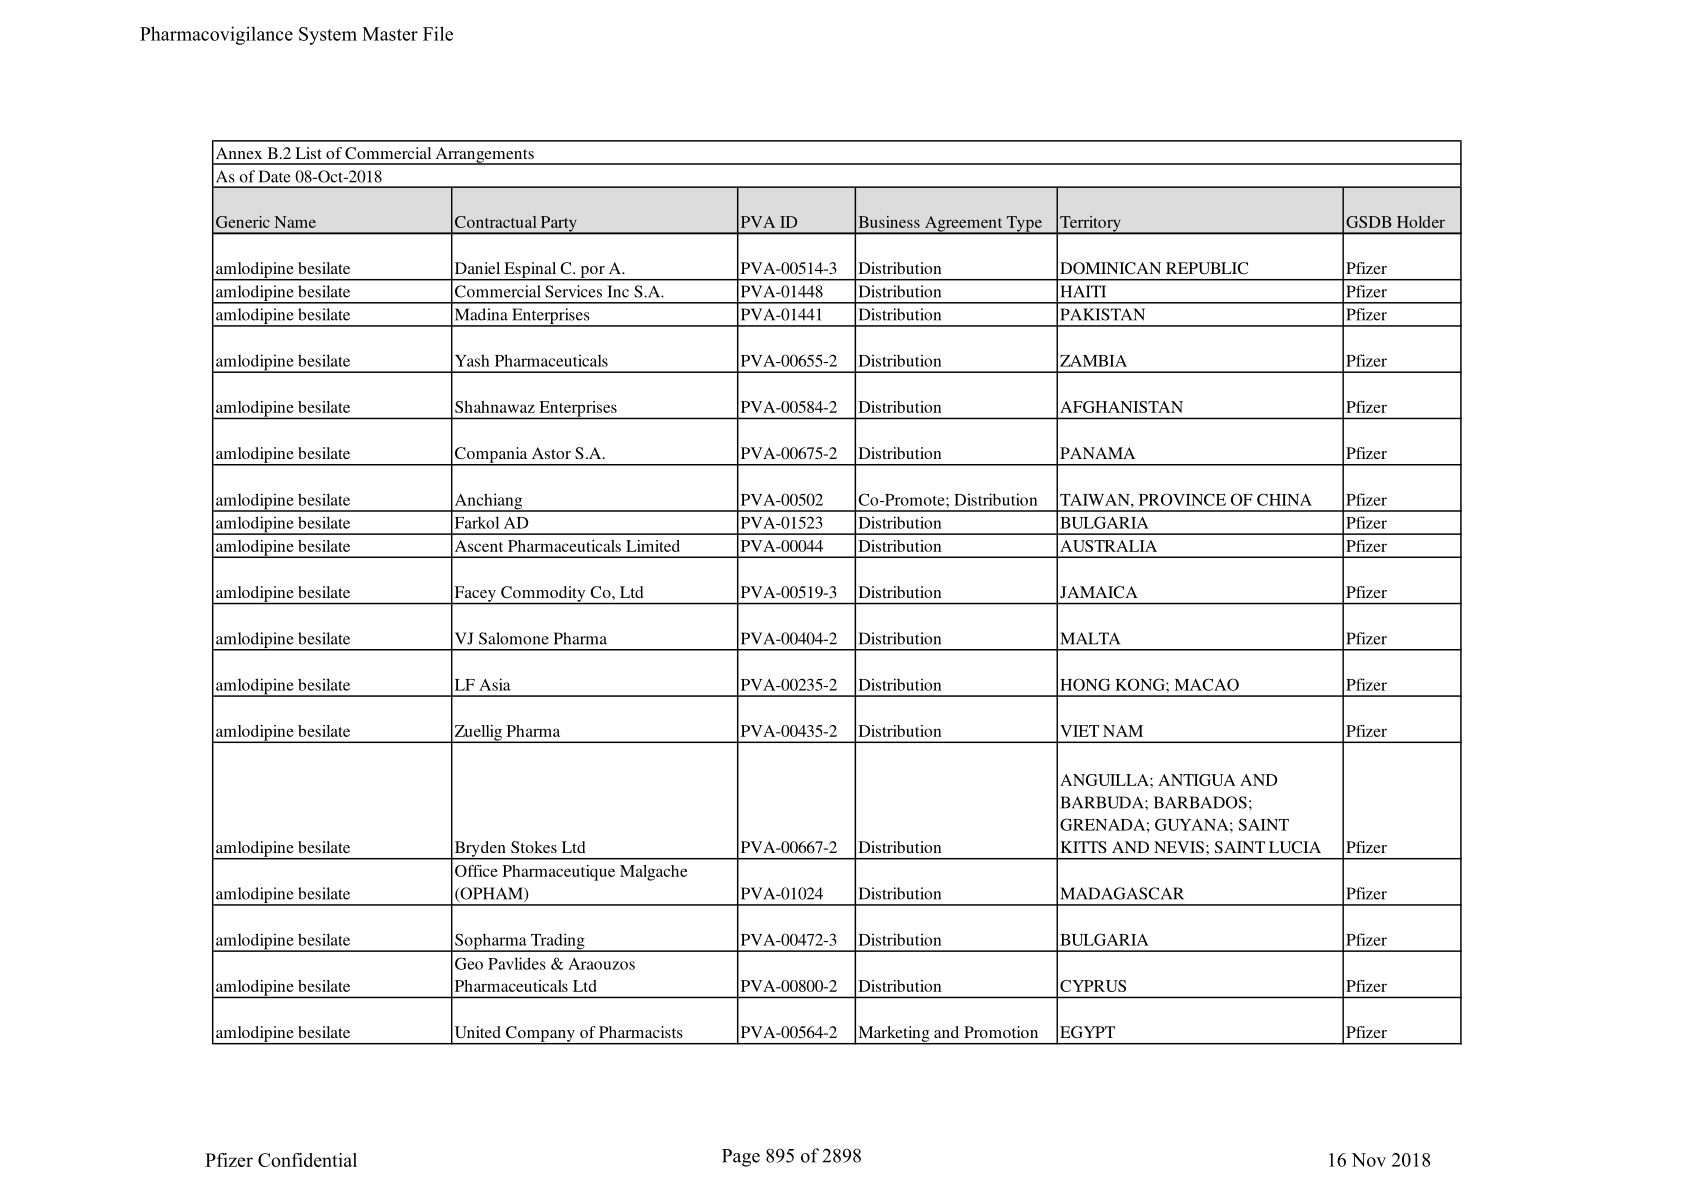merged_cells: (211, 138, 1462, 1047)
